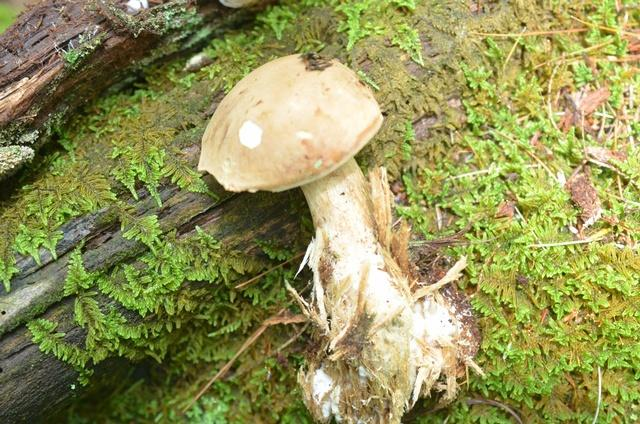poisonous_mushroom: (196, 50, 481, 422)
